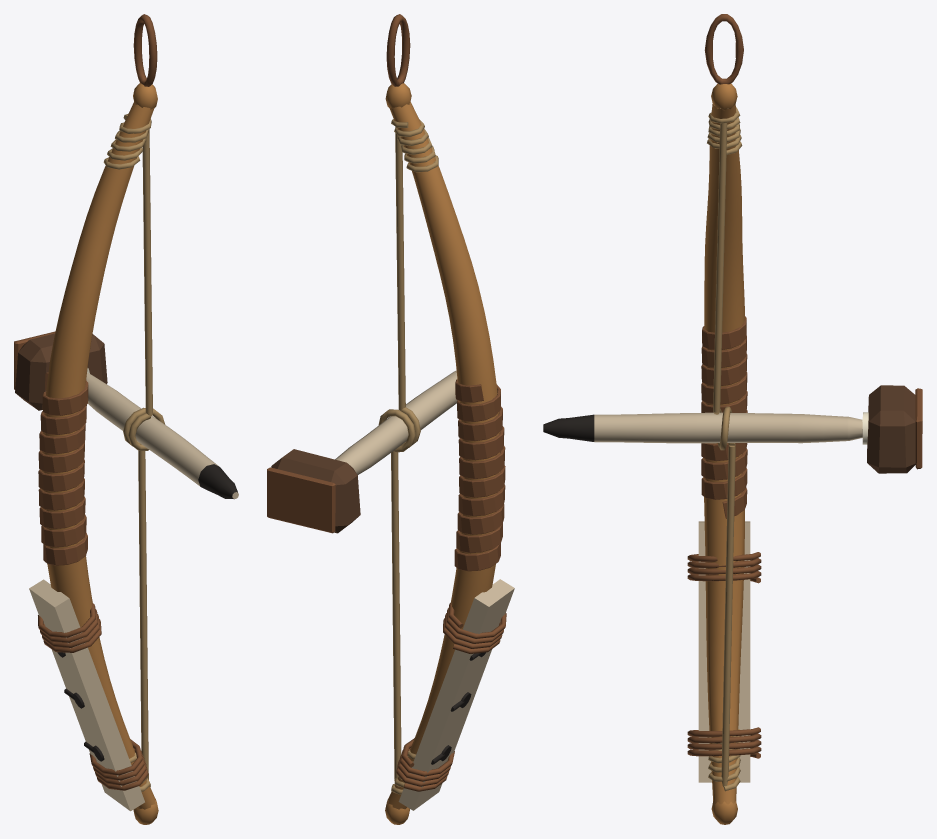
Rendered from tool_bowdrill.fbx.
3 renders of one model, left to right at view 1: azimuth 30°, elevation 25°; view 2: azimuth 150°, elevation 25°; view 3: azimuth 270°, elevation 25°, orthographic.
Parts seen in each view (by area): view 1: Tool_BowDrill_Bow, Tool_BowDrill_Grip, Tool_BowDrill_Fireboard, Tool_BowDrill_Cord, Tool_BowDrill_Spindle, Tool_BowDrill_HandBlock, Tool_BowDrill_Lashing, Tool_BowDrill_Loop; view 2: Tool_BowDrill_Bow, Tool_BowDrill_Grip, Tool_BowDrill_Fireboard, Tool_BowDrill_HandBlock, Tool_BowDrill_Cord, Tool_BowDrill_Spindle, Tool_BowDrill_Lashing, Tool_BowDrill_Loop; view 3: Tool_BowDrill_Bow, Tool_BowDrill_Spindle, Tool_BowDrill_Grip, Tool_BowDrill_Cord, Tool_BowDrill_HandBlock, Tool_BowDrill_Fireboard, Tool_BowDrill_Lashing, Tool_BowDrill_Loop.
Boxes of the visible parts, x1,y1,x2,y2 form: Tool_BowDrill_Bow: [41, 83, 158, 824]; Tool_BowDrill_Grip: [38, 113, 151, 791]; Tool_BowDrill_Fireboard: [29, 579, 144, 811]; Tool_BowDrill_Cord: [123, 129, 165, 779]; Tool_BowDrill_Spindle: [86, 372, 238, 499]; Tool_BowDrill_HandBlock: [14, 331, 107, 410]; Tool_BowDrill_Lashing: [38, 603, 148, 790]; Tool_BowDrill_Loop: [133, 14, 157, 86]; Tool_BowDrill_Bow: [385, 83, 500, 824]; Tool_BowDrill_Grip: [391, 119, 505, 794]; Tool_BowDrill_Fireboard: [398, 579, 514, 810]; Tool_BowDrill_HandBlock: [267, 449, 360, 533]; Tool_BowDrill_Cord: [378, 126, 420, 784]; Tool_BowDrill_Spindle: [335, 370, 457, 474]; Tool_BowDrill_Lashing: [396, 602, 506, 791]; Tool_BowDrill_Loop: [386, 14, 410, 86]; Tool_BowDrill_Bow: [703, 83, 745, 824]; Tool_BowDrill_Spindle: [543, 412, 862, 443]; Tool_BowDrill_Grip: [701, 107, 747, 791]; Tool_BowDrill_Cord: [713, 118, 735, 786]; Tool_BowDrill_HandBlock: [862, 385, 922, 473]; Tool_BowDrill_Fireboard: [698, 521, 750, 782]; Tool_BowDrill_Lashing: [687, 552, 761, 758]; Tool_BowDrill_Loop: [704, 14, 743, 84].
Size of the model in its own units: 12.81 by 69.13 by 29.33.
